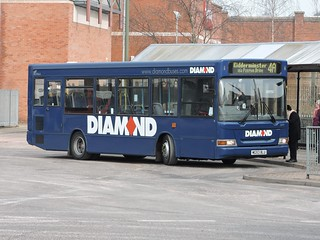bus: (27, 58, 288, 165)
